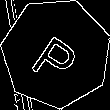P_NE: (27, 22, 85, 85)
